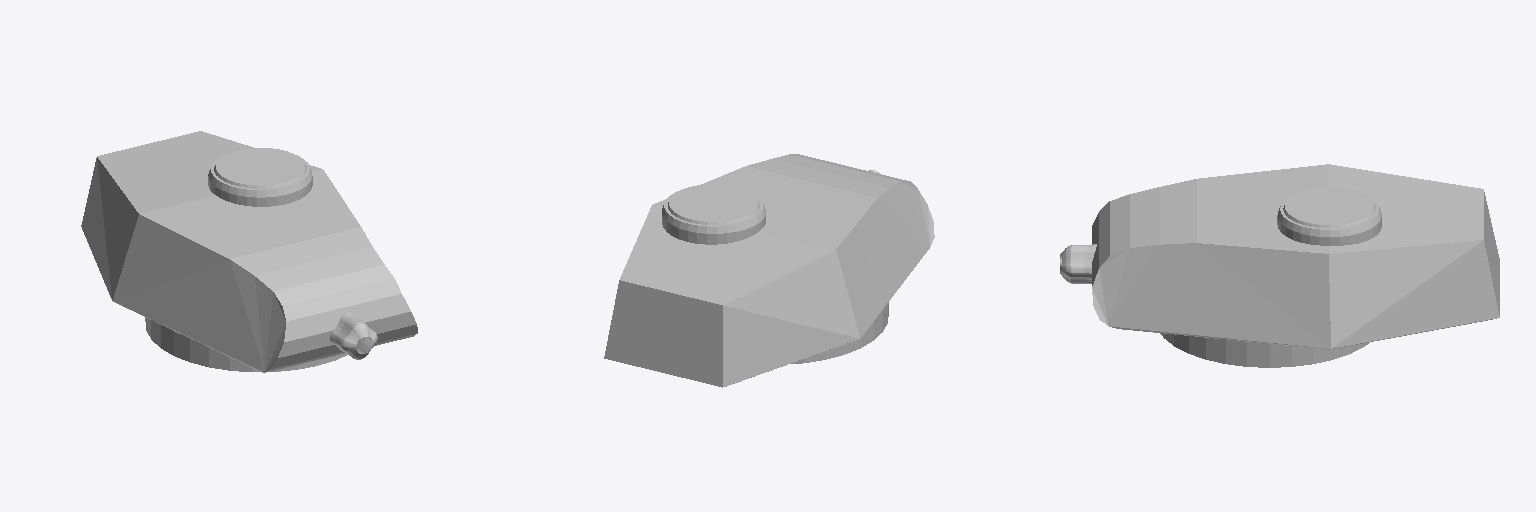
The model's file is wieza.obj.
3 renders of one model, left to right at view 1: azimuth 30°, elevation 25°; view 2: azimuth 150°, elevation 25°; view 3: azimuth 270°, elevation 25°, orthographic.
Parts seen in each view (by area): view 1: wieża_Cube.000; view 2: wieża_Cube.000; view 3: wieża_Cube.000.
Boxes of the visible parts, x1,y1,x2,y2 form: wieża_Cube.000: [81, 131, 417, 372]; wieża_Cube.000: [604, 154, 934, 387]; wieża_Cube.000: [1060, 164, 1499, 367].
Bounding box in the file's own units: 1.98 × 1.03 × 3.2.